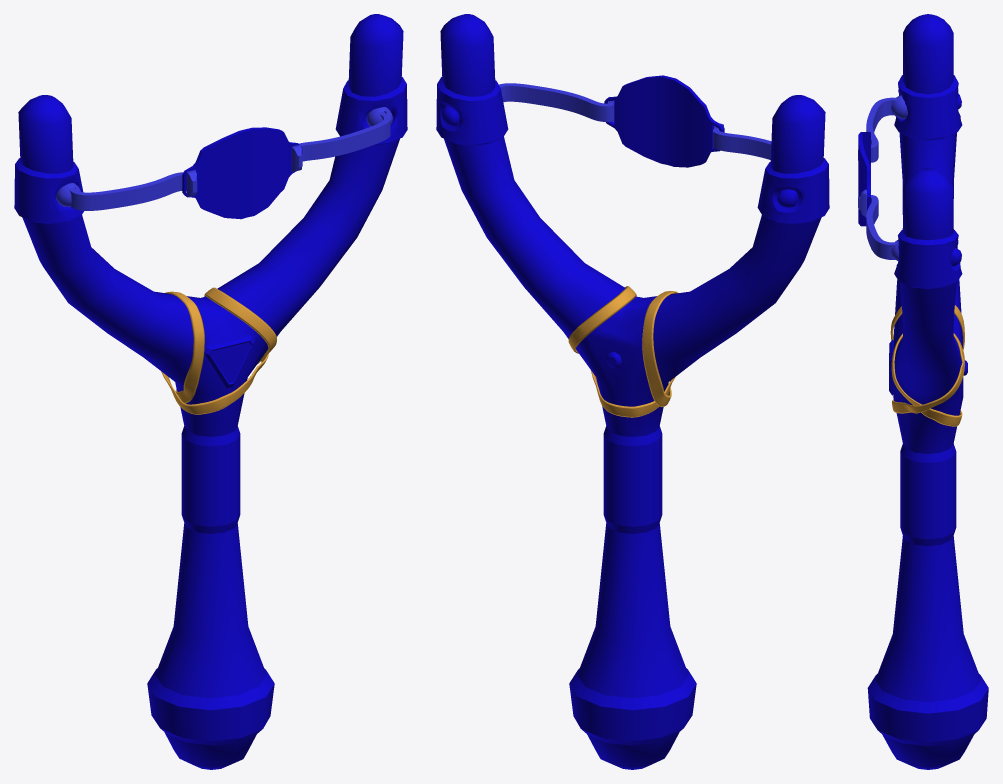
The model's file is Slingshot2.FBX.
The picture shows the model from 3 angles, left to right: view 1: azimuth 30°, elevation 25°; view 2: azimuth 150°, elevation 25°; view 3: azimuth 270°, elevation 25°; orthographic projection. The views are drawn at different scales.
Parts seen in each view (by area): view 1: slingshotbase; view 2: slingshotbase; view 3: slingshotbase.
Boxes of the visible parts, box(x1,y1,x2,y2) form: slingshotbase: box(14, 14, 407, 769); slingshotbase: box(436, 14, 829, 769); slingshotbase: box(858, 14, 988, 769).
Size of the model in its own units: 65.16 by 114 by 20.25.
